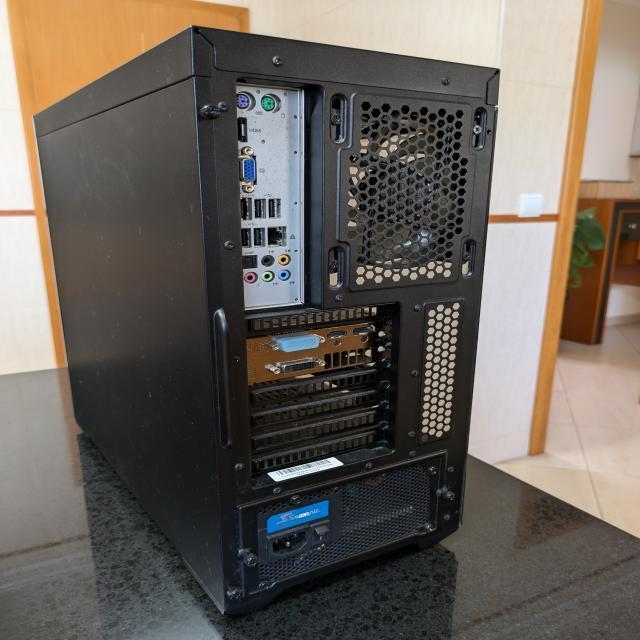PSU: (254, 458, 440, 588)
